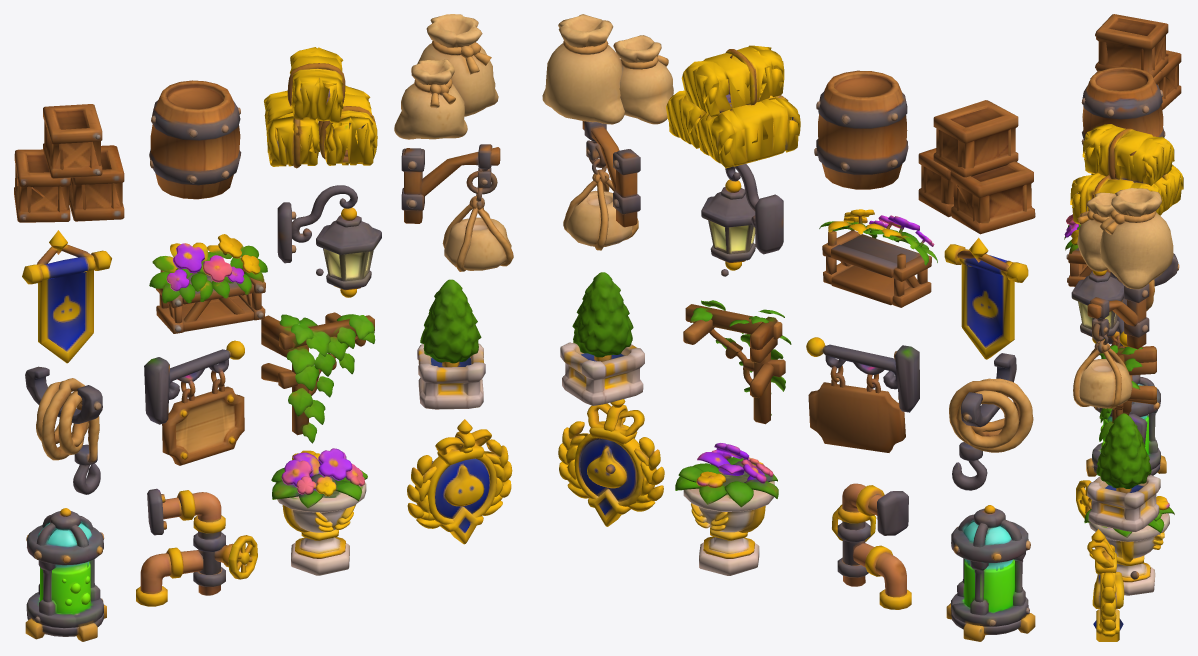
File: sheet_source.glb
3 renders of one model, left to right at view 1: azimuth 30°, elevation 25°; view 2: azimuth 150°, elevation 25°; view 3: azimuth 270°, elevation 25°, orthographic. The views are drawn at different scales.
Parts seen in each view (by area): view 1: tripo_node_9b9077b8-736d-4cf1-8729-4e2bcadf3ffc; view 2: tripo_node_9b9077b8-736d-4cf1-8729-4e2bcadf3ffc; view 3: tripo_node_9b9077b8-736d-4cf1-8729-4e2bcadf3ffc.
Part boxes in pixels (x1,y1,x2,y2): tripo_node_9b9077b8-736d-4cf1-8729-4e2bcadf3ffc: (14,14,513,641); tripo_node_9b9077b8-736d-4cf1-8729-4e2bcadf3ffc: (542,14,1035,641); tripo_node_9b9077b8-736d-4cf1-8729-4e2bcadf3ffc: (1064,14,1183,641).
Bounding box in the file's own units: 0.9995 × 0.9995 × 0.2397.
1 material, 1 textured.
